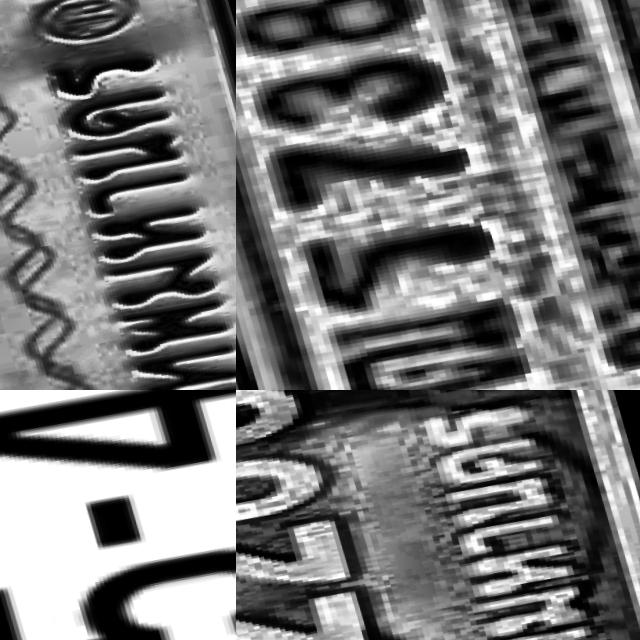license-plate: (236, 0, 640, 390), (236, 390, 640, 640), (0, 0, 236, 390), (0, 390, 236, 640)
